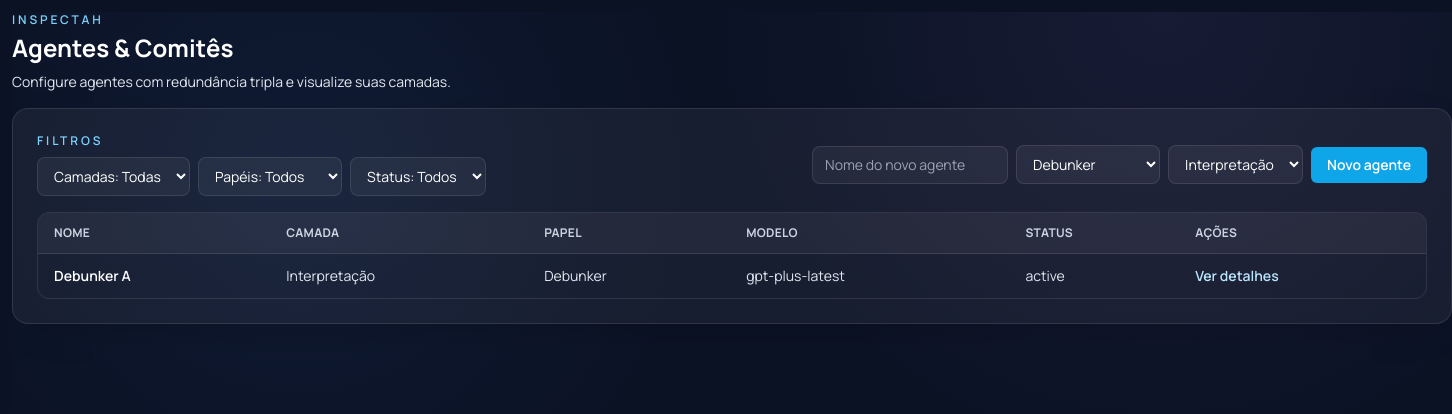
Scenario: Admin Agents Console › renderiza lista e cria novo agente
Expected: the text "Debunker A" is shown, [38,254,270,298]
In the field with placeholder "Nome do novo agente": (910, 164) [812,146,1008,184], type "Mediator One"
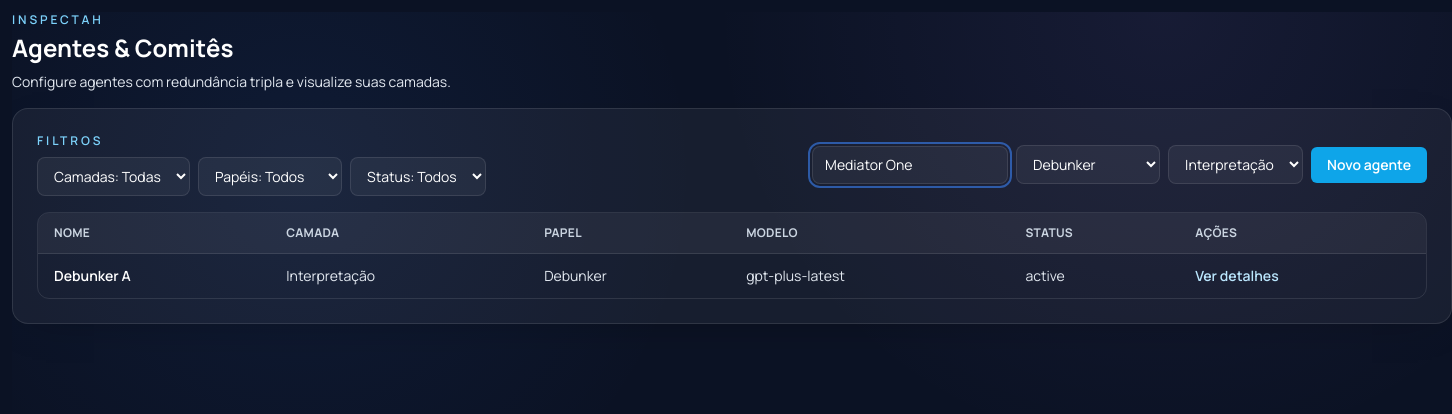
Click the button "Novo agente": (1369, 164) [1311,146,1427,182]
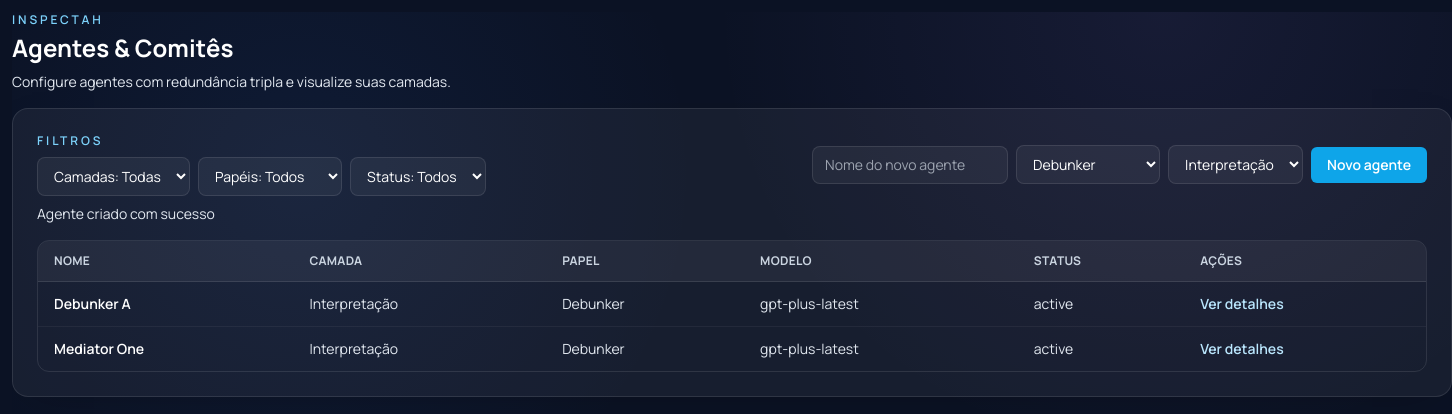
Now the text "Agente criado com sucesso" is shown, box [37,204,215,223]
